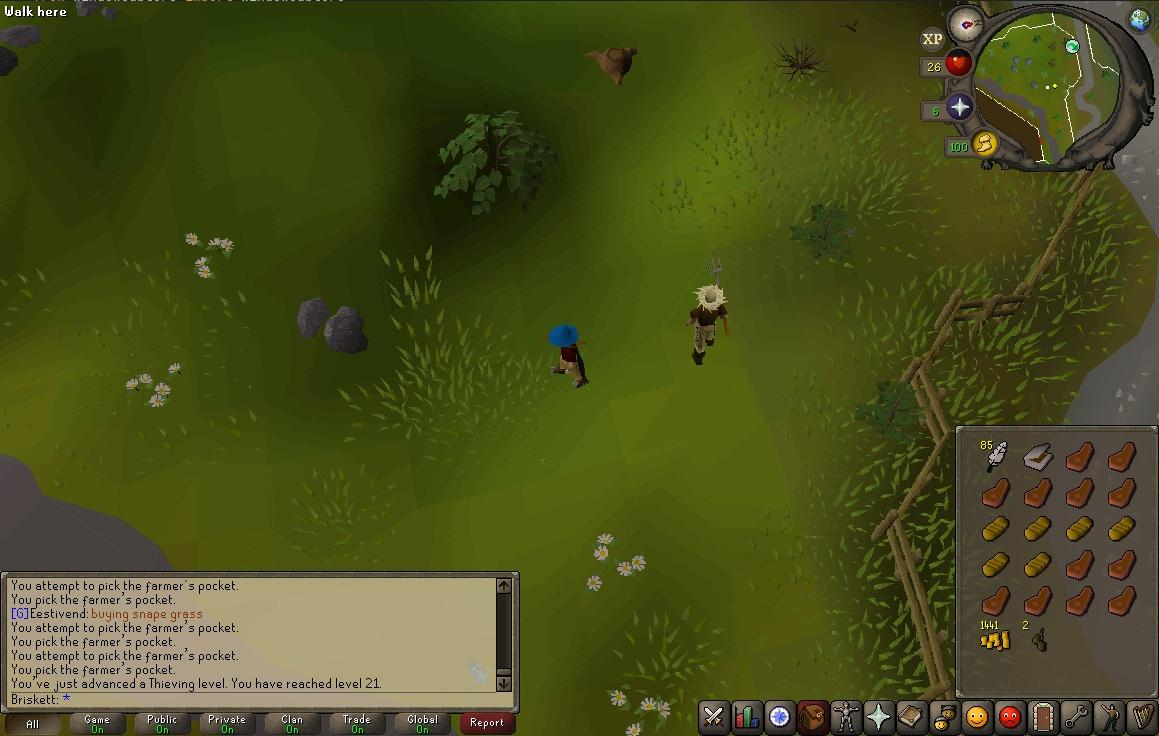Farmer: (685, 284, 732, 366)
